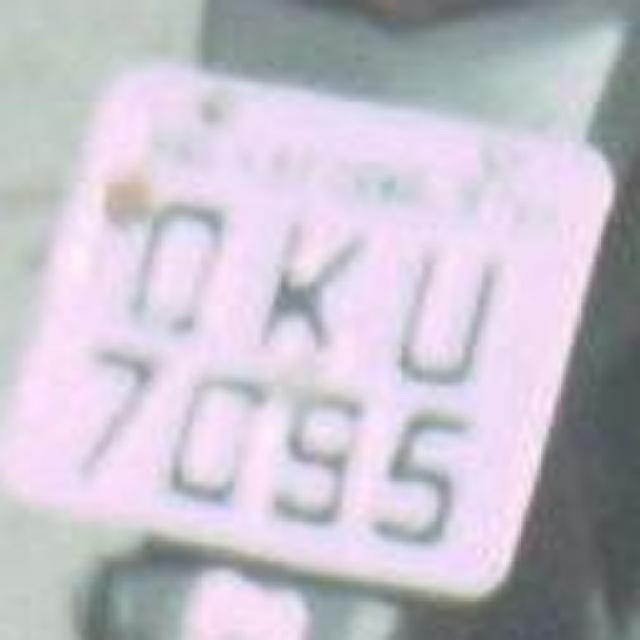0: (140, 345, 295, 520)
5: (355, 389, 500, 556)
7: (36, 324, 176, 511)
8: (248, 372, 380, 536)
9: (249, 368, 396, 548)
N: (232, 200, 376, 380)
U: (376, 215, 512, 400)
